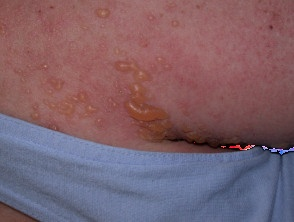SJS-TEN: (0, 0, 263, 159)
